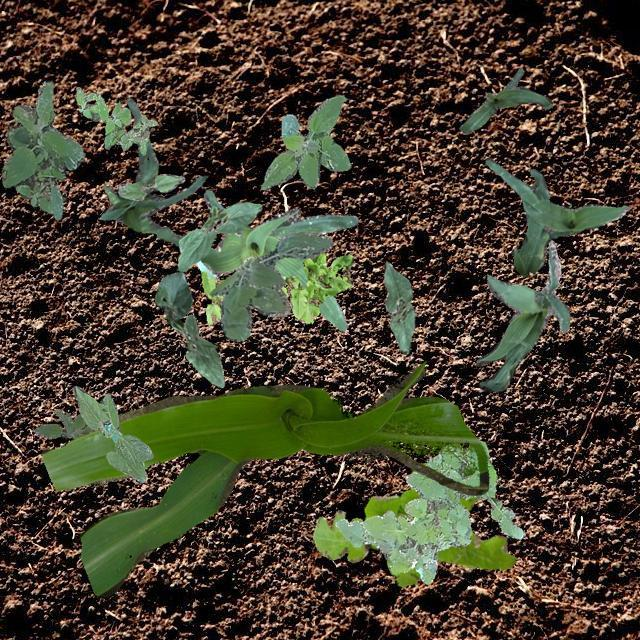crop: (40, 360, 488, 596), (195, 188, 358, 329), (484, 156, 628, 276), (100, 96, 206, 245), (476, 240, 568, 390), (154, 270, 224, 386), (72, 384, 152, 482), (458, 68, 552, 132), (177, 200, 260, 270), (382, 260, 414, 352), (116, 172, 184, 200)
weed: (334, 440, 524, 582), (312, 486, 514, 586), (208, 230, 332, 340), (0, 80, 84, 218), (200, 250, 352, 324), (260, 94, 350, 188), (75, 85, 156, 154), (33, 408, 90, 438)
